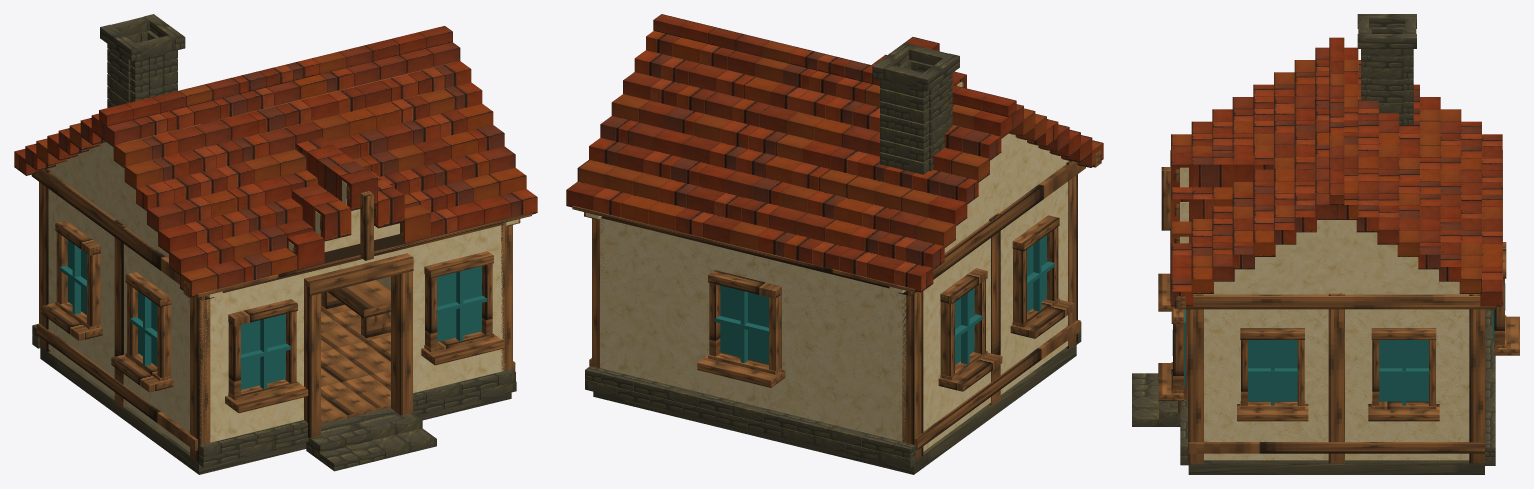
The model's file is SM_HP_Cottage_RoofV2_LOD2.fbx.
3 renders of one model, left to right at view 1: azimuth 30°, elevation 25°; view 2: azimuth 150°, elevation 25°; view 3: azimuth 270°, elevation 25°, orthographic. The views are drawn at different scales.
Visible parts, largest first — view 1: SM_HP_Cottage_RoofV2_LOD2; view 2: SM_HP_Cottage_RoofV2_LOD2; view 3: SM_HP_Cottage_RoofV2_LOD2.
Part boxes in pixels (<box>): SM_HP_Cottage_RoofV2_LOD2: <box>14,14,537,474</box>; SM_HP_Cottage_RoofV2_LOD2: <box>566,14,1103,474</box>; SM_HP_Cottage_RoofV2_LOD2: <box>1132,14,1519,474</box>.
Bounding box in the file's own units: 5.76 × 5.76 × 5.39.
